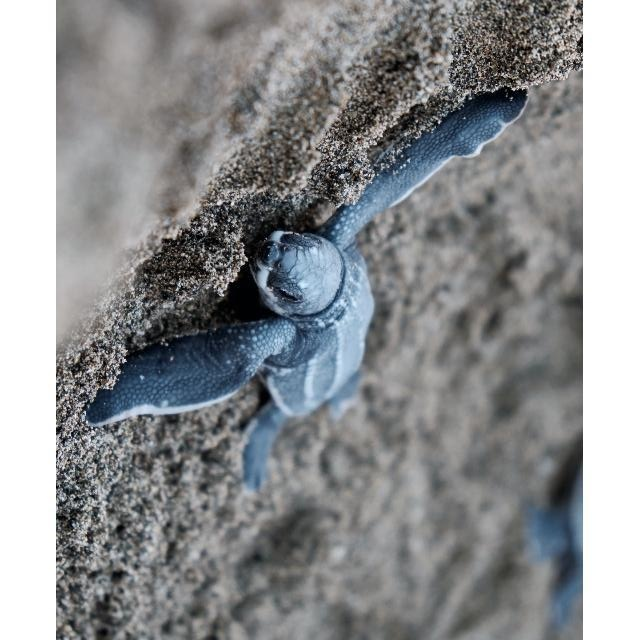turtle: (85, 84, 531, 489)
